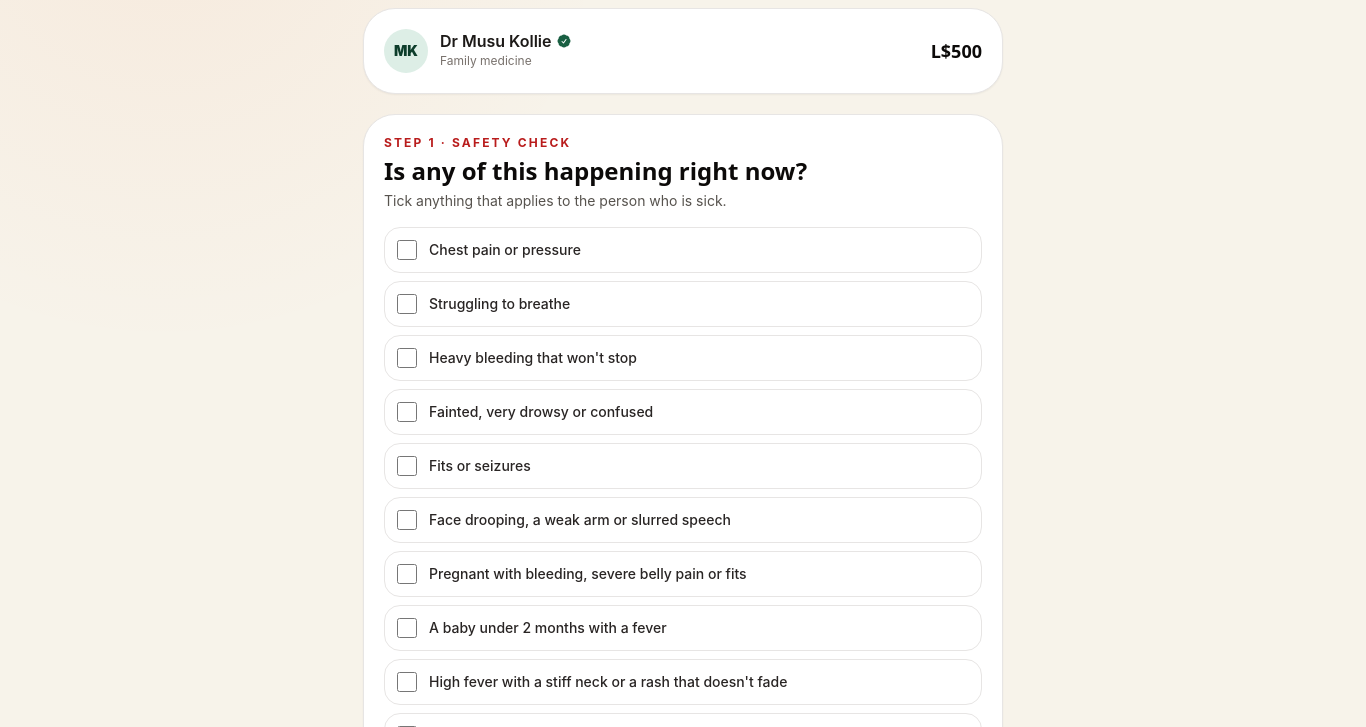
Test: BookConsultation › sends anyone with an emergency sign to emergency care instead of booking
The width and height of the screenshot is (1366, 727).
Step 1. Click the checkbox labelled "Struggling to breathe" → click(407, 304), box [397,294,417,314]
(page scrolled)
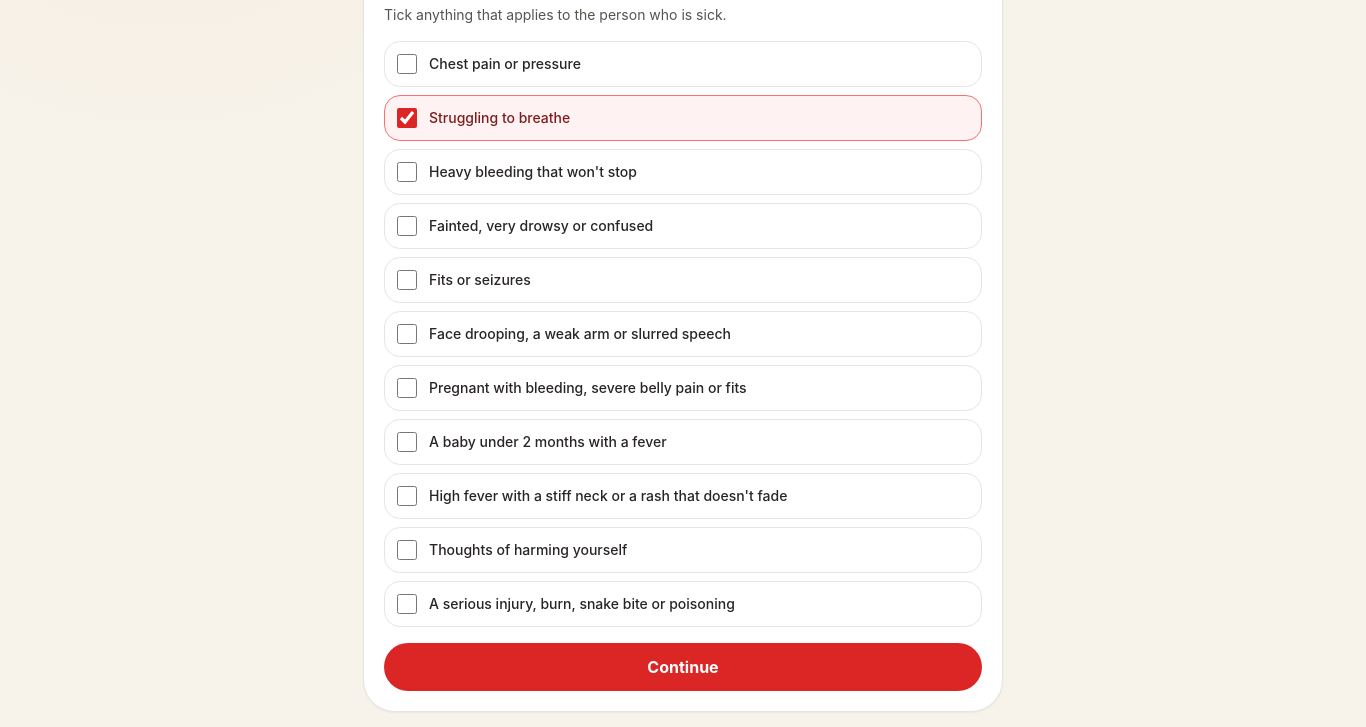
Step 2. Click the button "Continue" → click(683, 667), box [384,643,982,691]
(page scrolled)
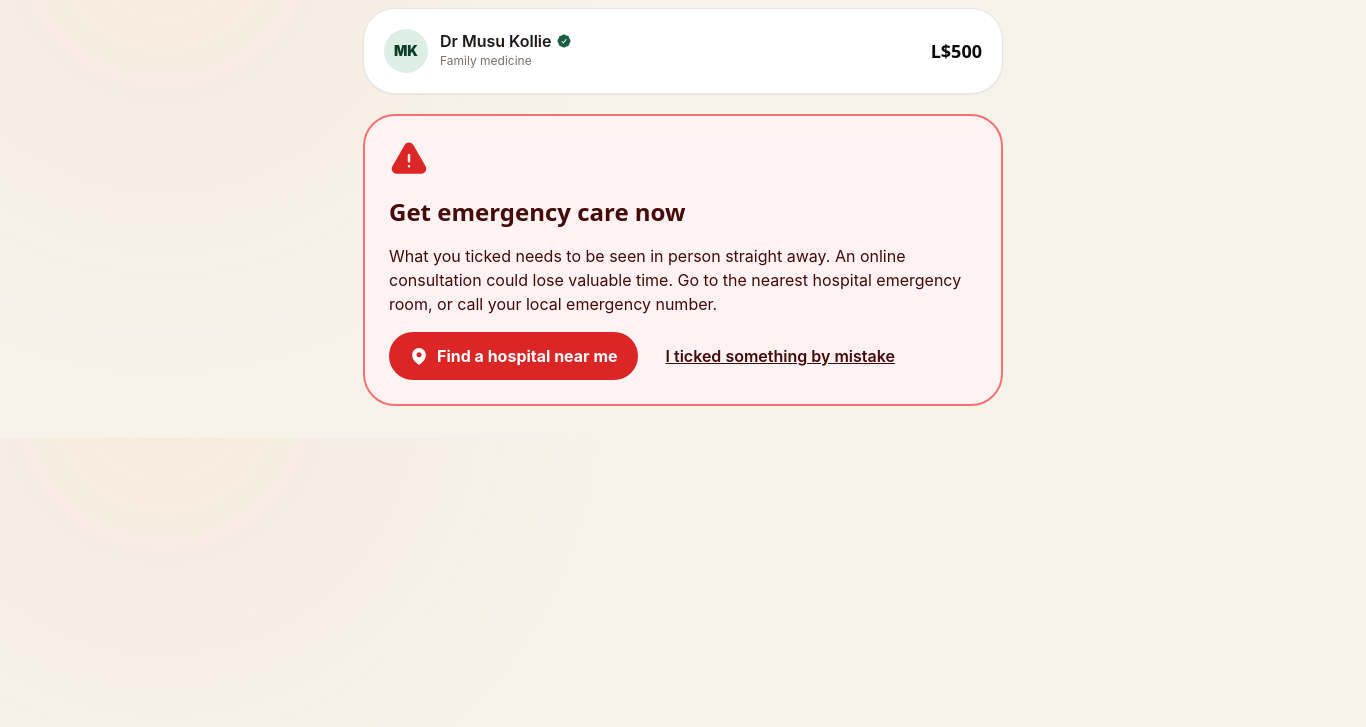
Result: the heading "Get emergency care now" is shown at [389,195,686,228]
